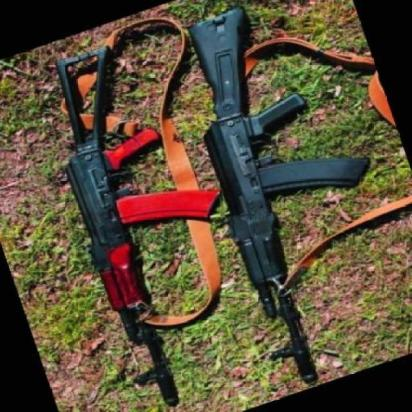Gun: (188, 7, 372, 387), (60, 42, 223, 405)
